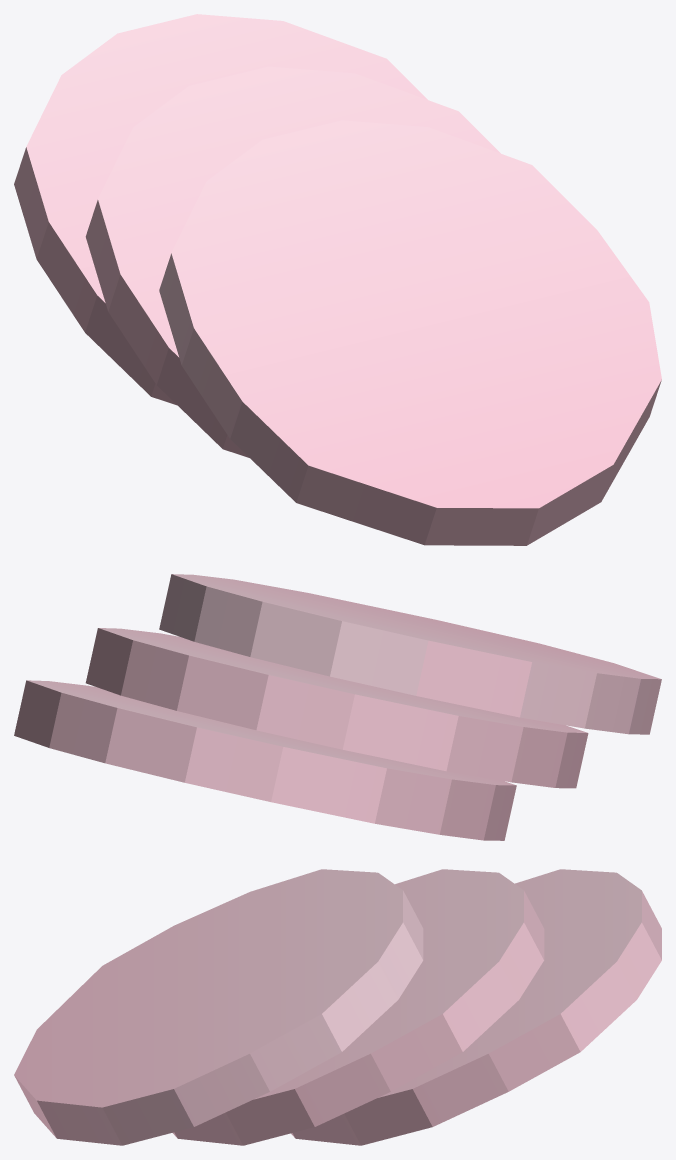
The model's file is Dragon Fruit Slice.fbx.
3 views of the same model, one above another, from view 1: azimuth 30°, elevation 25°; view 2: azimuth 150°, elevation 25°; view 3: azimuth 270°, elevation 25° (orthographic). The views are drawn at different scales.
Visible parts, largest first — view 1: Dragon Fruit Slice.002, Dragon Fruit Slice.001, Dragon Fruit Slice; view 2: Dragon Fruit Slice.002, Dragon Fruit Slice.001, Dragon Fruit Slice; view 3: Dragon Fruit Slice.002, Dragon Fruit Slice.001, Dragon Fruit Slice.
Boxes of the visible parts, box(x1,y1,x2,y2) form: Dragon Fruit Slice.002: box(159, 120, 661, 545); Dragon Fruit Slice.001: box(85, 66, 500, 457); Dragon Fruit Slice: box(14, 14, 427, 405); Dragon Fruit Slice.002: box(159, 574, 661, 734); Dragon Fruit Slice.001: box(85, 628, 588, 788); Dragon Fruit Slice: box(14, 680, 516, 840); Dragon Fruit Slice.002: box(14, 869, 423, 1145); Dragon Fruit Slice.001: box(172, 869, 544, 1145); Dragon Fruit Slice: box(291, 869, 661, 1145).
Size of the model in its own units: 14.07 by 8.27 by 23.47.
